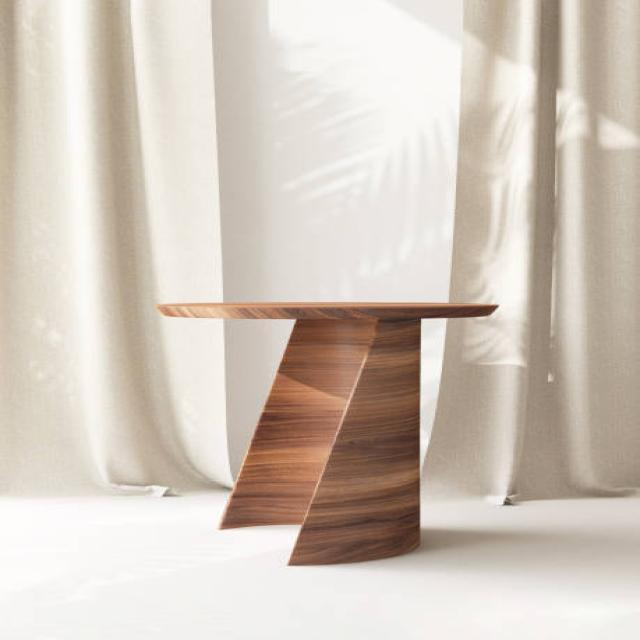table: (155, 300, 500, 566)
